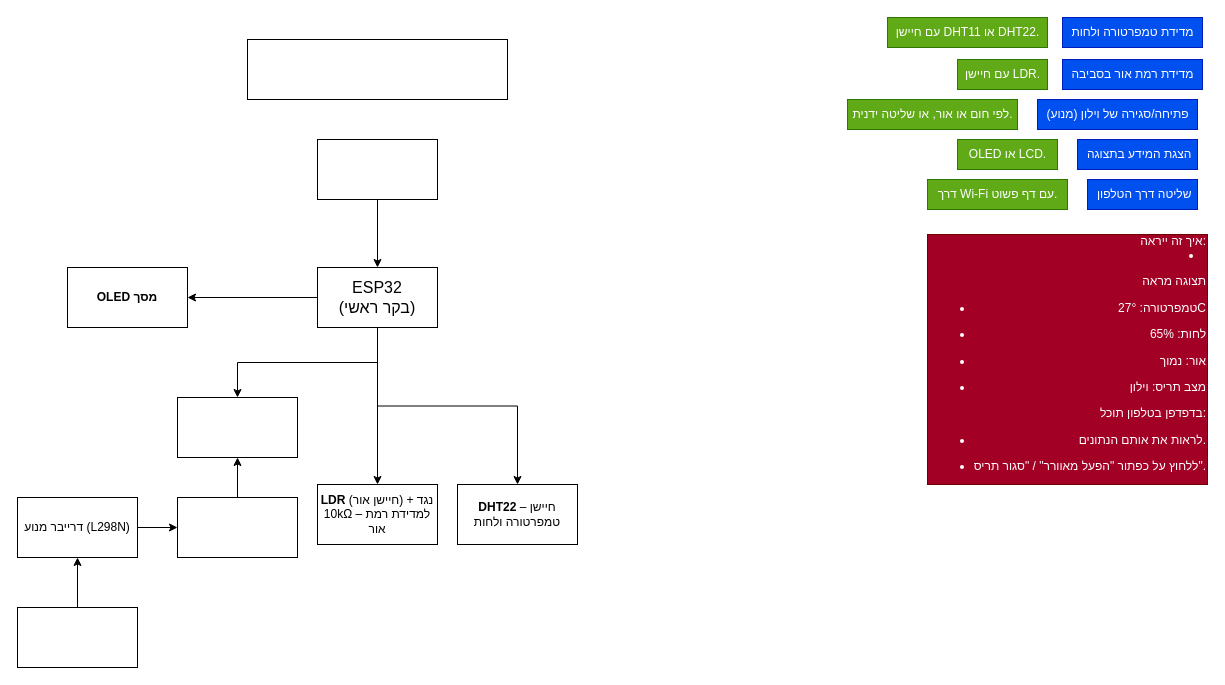
The diagram is 1225 pixels wide and 685 high, and some of its shapes have lost their labels. The centre of each missing label's shape, as x and y in pixels:
Power Supply 5V / 3.3V: [377,169]
חיישני קצה (Limit): [237,427]
מנוע DC (לוילון): [237,527]
מסילה עם חוט/גלגלת: [77,637]
תחנת בקרה חכמה לבית: [377,69]
